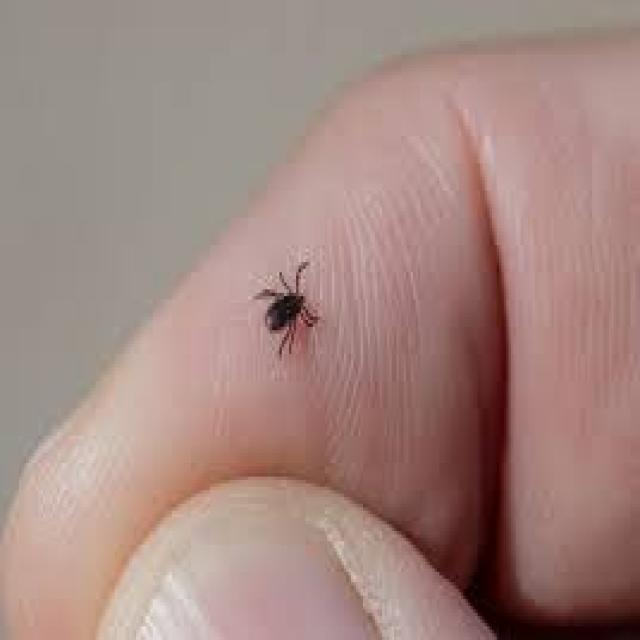kene: (245, 248, 336, 365)
